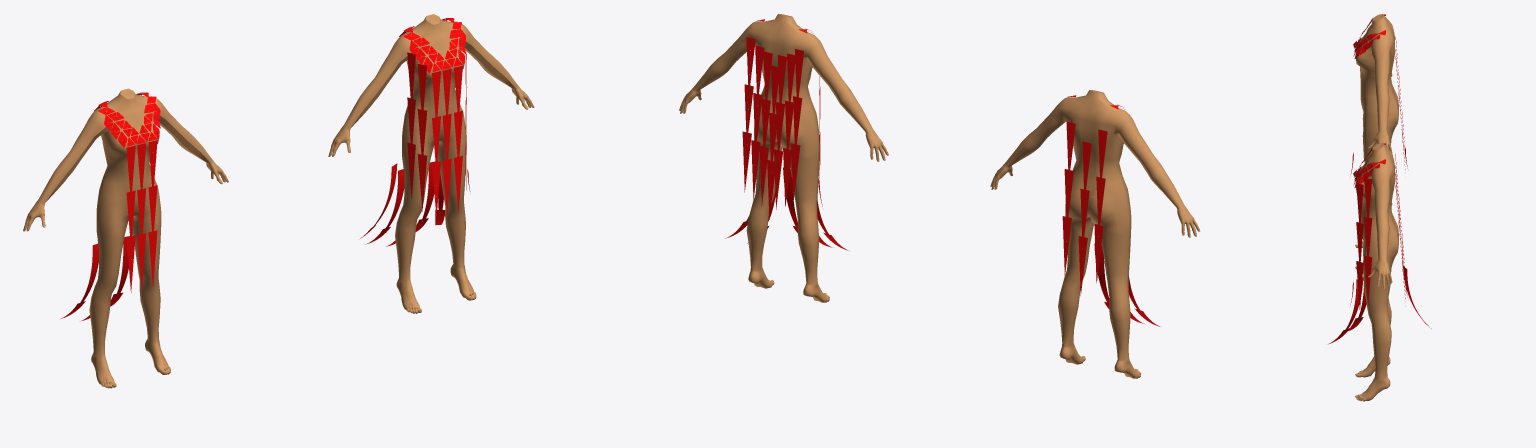
Rendered from wearables.glb.
3 renders of one model, left to right at view 1: azimuth 30°, elevation 25°; view 2: azimuth 150°, elevation 25°; view 3: azimuth 270°, elevation 25°, orthographic. The views are drawn at different scales.
Visible parts, largest first — view 1: Mannequin (×2); view 2: Mannequin (×2); view 3: Mannequin (×2).
Boxes of the visible parts, left/top/right/bottom form: Mannequin (×2): left=23, top=14, right=534, bottom=388; Mannequin (×2): left=679, top=14, right=1200, bottom=378; Mannequin (×2): left=1355, top=14, right=1398, bottom=401.
Bounding box in the file's own units: 119 × 58.81 × 62.58.
